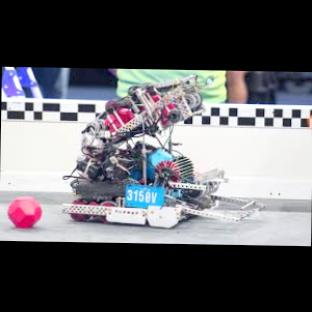Robot: (62, 75, 263, 227)
V5_RED: (7, 197, 40, 227)
blueinrobot: (146, 149, 172, 180), (131, 170, 141, 178)
redinrobot: (104, 107, 134, 132), (160, 103, 176, 124), (151, 95, 160, 101)
